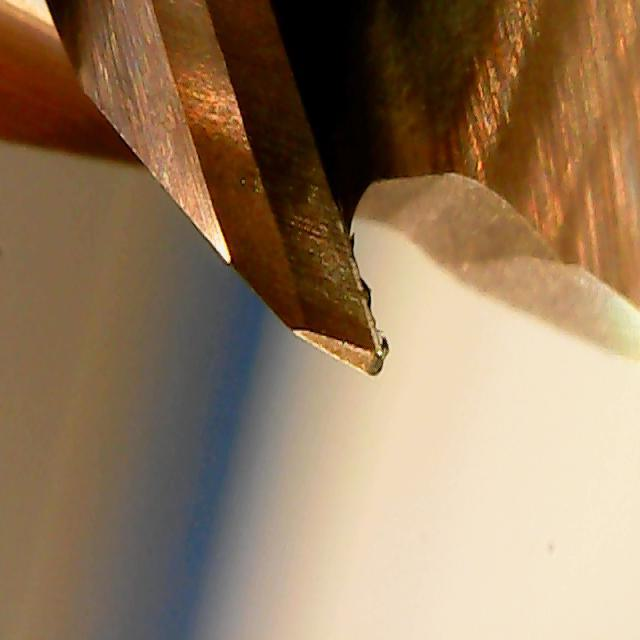Tool-wear-class-1: (208, 103, 396, 389)
